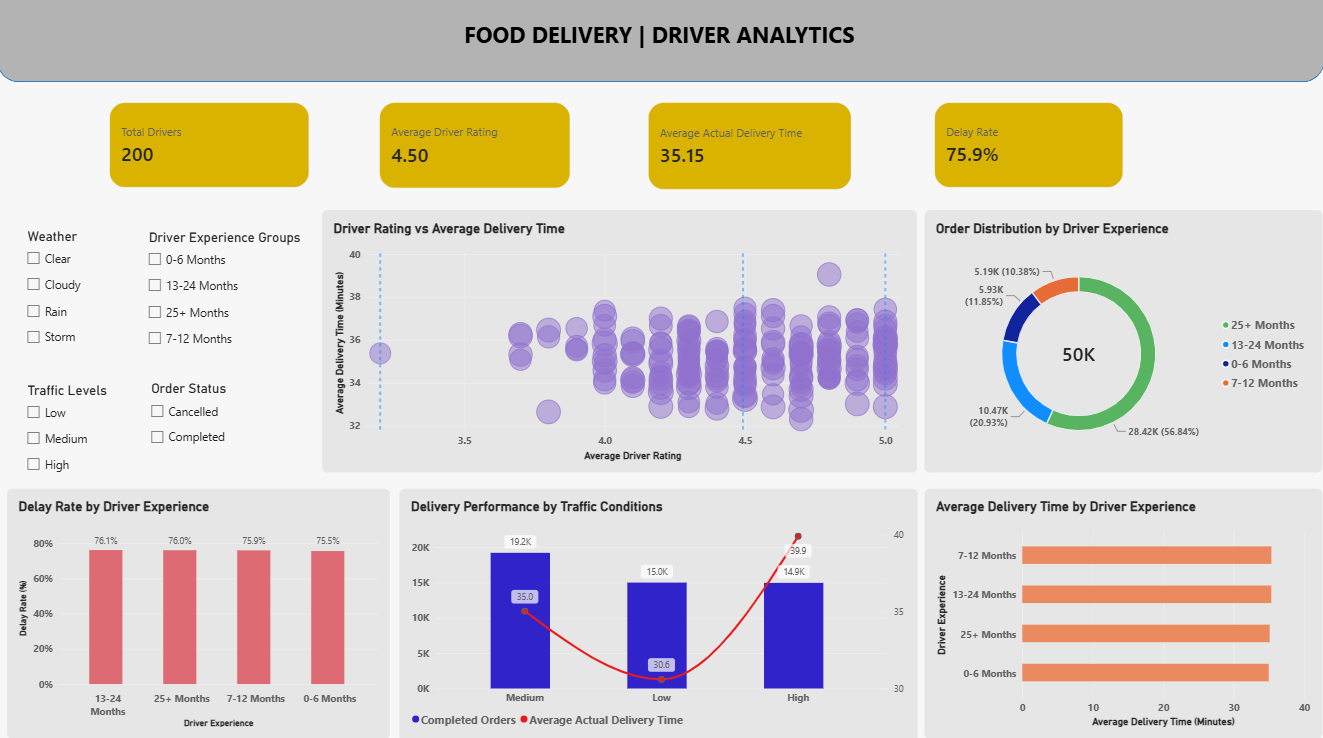

Layout of this report page (visuals, bound fields, positions):
{"tool":"powerbi","page":{"name":"Driver Analytics","canvas":[1920,1080],"ordinal":3},"visuals":[{"type":"shape","box":[0,0,1922,126],"z":0},{"type":"textbox","box":[0,16.3,1918.2,70.6],"z":1000},{"type":"cardVisual","fields":{"Data":["FDA.Total Drivers"]},"box":[162.9,155.6,289.5,123.1],"z":2000},{"type":"cardVisual","fields":{"Data":["FDA.Average Driver Rating"]},"box":[553.8,155.6,276.9,124.9],"z":3000},{"type":"cardVisual","fields":{"Data":["FDA.Average Actual Delivery Time"]},"box":[942.8,155.6,295,126.7],"z":4000},{"type":"cardVisual","fields":{"Data":["FDA.Delay Rate"]},"box":[1357.2,155.6,273.3,123.1],"z":5000},{"type":"clusteredBarChart","title":"Average Delivery Time by Driver Experience","fields":{"Category":["FDA.driver_experience_group"],"Y":["FDA.Average Actual Delivery Time"]},"box":[1342,714,576,362],"z":6000},{"type":"clusteredColumnChart","title":"Delay Rate by Driver Experience","fields":{"Category":["FDA.driver_experience_group"],"Y":["FDA.Delay Rate"]},"box":[14,714,554,362],"z":7000},{"type":"scatterChart","title":"Driver Rating vs Average Delivery Time","fields":{"Category":["FDA.driver_id"],"Size":["FDA.Total Orders"],"X":["FDA.Average Driver Rating"],"Y":["FDA.Average Actual Delivery Time"]},"box":[470.5,311.3,861.4,380],"z":8000},{"type":"donutChart","title":"Order Distribution by Driver Experience","fields":{"Category":["FDA.driver_experience_group"],"Y":["FDA.Total Orders"]},"box":[1342,312,576,380],"z":9000},{"type":"lineClusteredColumnComboChart","title":"Delivery Performance by Traffic Conditions","fields":{"Category":["FDA.traffic_level"],"Y":["FDA.Completed Orders"],"Y2":["FDA.Average Actual Delivery Time"]},"box":[582,714,750,366],"z":10000},{"type":"slicer","fields":{"Values":["FDA.driver_experience_group"]},"box":[212.5,340,285,185],"z":11000},{"type":"slicer","fields":{"Values":["FDA.traffic_level"]},"box":[35.7,560.7,178,154],"z":12000},{"type":"slicer","fields":{"Values":["FDA.weather"]},"box":[35.7,339.3,178,184],"z":13000},{"type":"slicer","fields":{"Values":["FDA.order_status"]},"box":[215,560,255,132.5],"z":14000}]}

Visuals, with their boxes in screenshot pixels (x1, y1, x2, y2), scaled from the page's 1920x1080 canvas onto the 1323x738 screenshot:
shape: <box>0,0,1322,86</box>
textbox: <box>0,11,1322,59</box>
cardVisual - FDA.Total Drivers: <box>112,106,312,190</box>
cardVisual - FDA.Average Driver Rating: <box>382,106,572,192</box>
cardVisual - FDA.Average Actual Delivery Time: <box>650,106,853,193</box>
cardVisual - FDA.Delay Rate: <box>935,106,1124,190</box>
"Average Delivery Time by Driver Experience" clusteredBarChart: <box>925,488,1322,735</box>
"Delay Rate by Driver Experience" clusteredColumnChart: <box>10,488,391,735</box>
"Driver Rating vs Average Delivery Time" scatterChart: <box>324,213,918,472</box>
"Order Distribution by Driver Experience" donutChart: <box>925,213,1322,473</box>
"Delivery Performance by Traffic Conditions" lineClusteredColumnComboChart: <box>401,488,918,737</box>
slicer - FDA.driver_experience_group: <box>146,232,343,359</box>
slicer - FDA.traffic_level: <box>25,383,147,488</box>
slicer - FDA.weather: <box>25,232,147,358</box>
slicer - FDA.order_status: <box>148,383,324,473</box>
